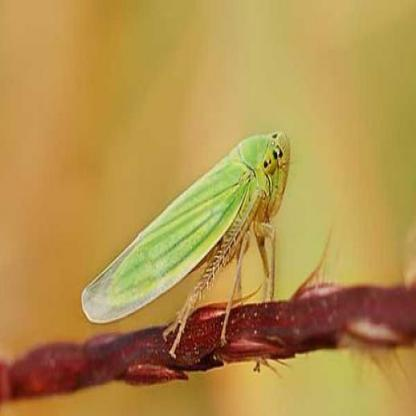Green-Leafhopper: (80, 128, 294, 359)
